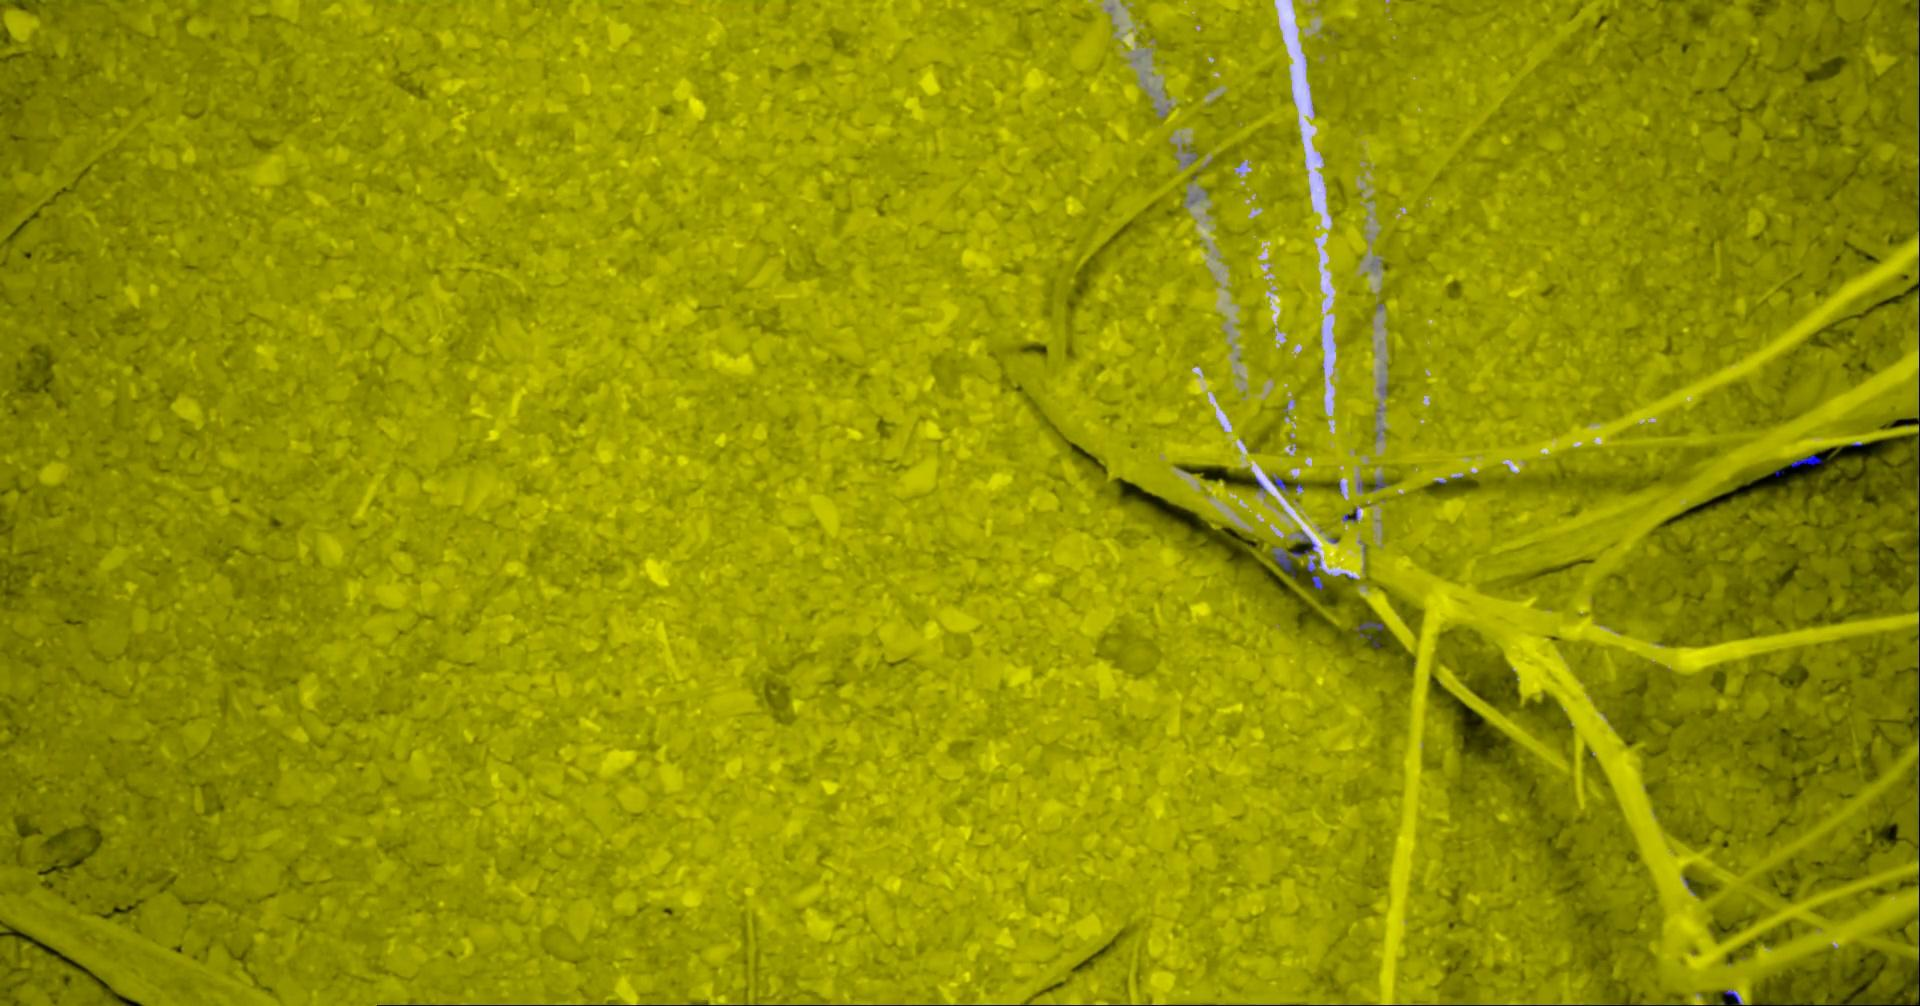ant: (1272, 536, 1314, 577), (1305, 564, 1323, 589), (1357, 621, 1383, 639), (1790, 453, 1821, 467), (1271, 478, 1288, 489)
